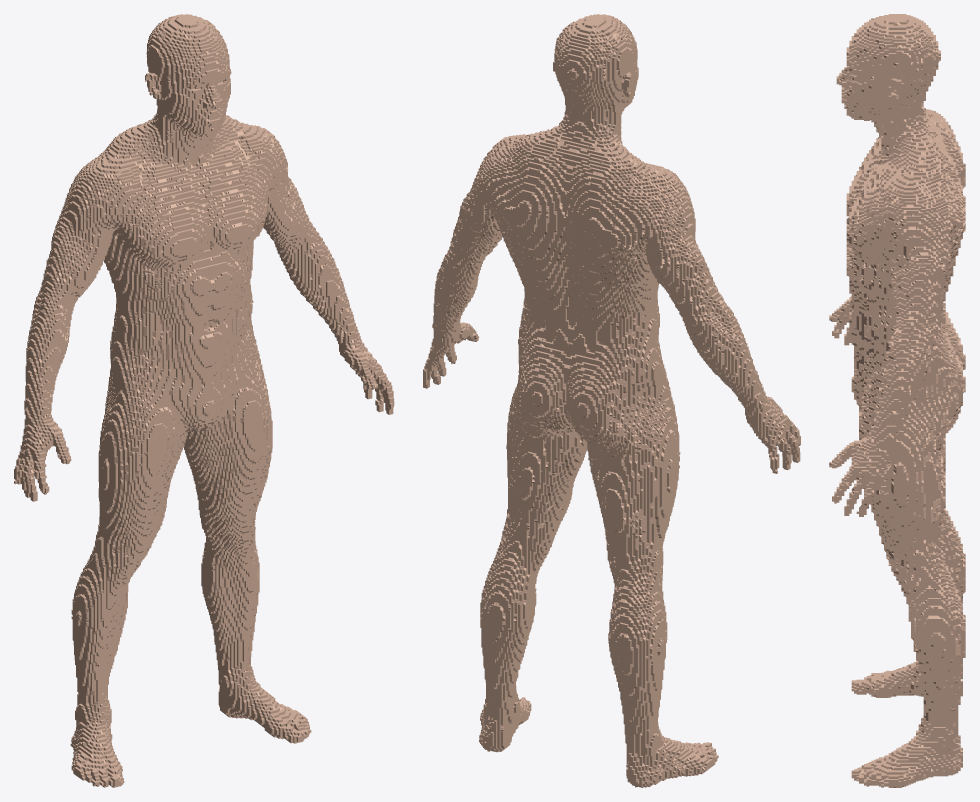
Rendered from male-v2.glb.
3 renders of one model, left to right at view 1: azimuth 30°, elevation 25°; view 2: azimuth 150°, elevation 25°; view 3: azimuth 270°, elevation 25°, orthographic.
Parts seen in each view (by area): view 1: world; view 2: world; view 3: world.
Boxes of the visible parts, x1,y1,x2,y2 form: world: [14, 14, 394, 787]; world: [423, 14, 800, 787]; world: [829, 14, 965, 787].
Size of the model in its own units: 0.882 by 1.69 by 0.2905.
